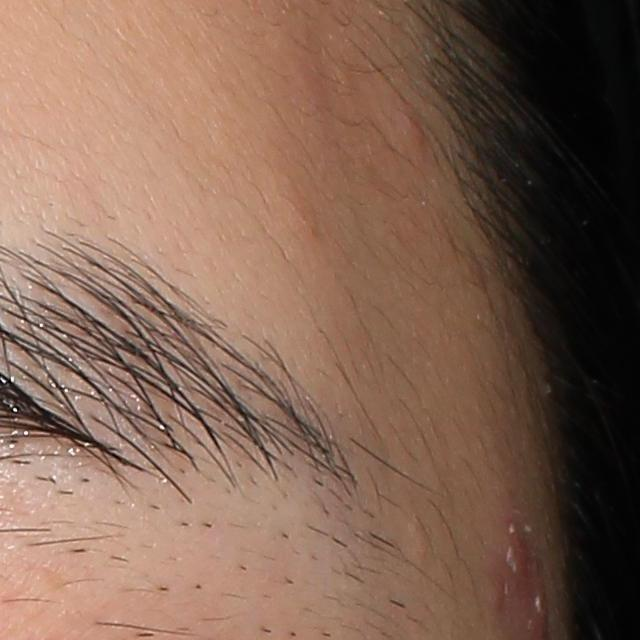papule: (392, 100, 431, 164)
